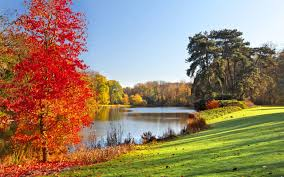lake: (92, 103, 212, 144)
mountain: (14, 58, 279, 176)
tree: (1, 1, 95, 163), (196, 25, 265, 113)
